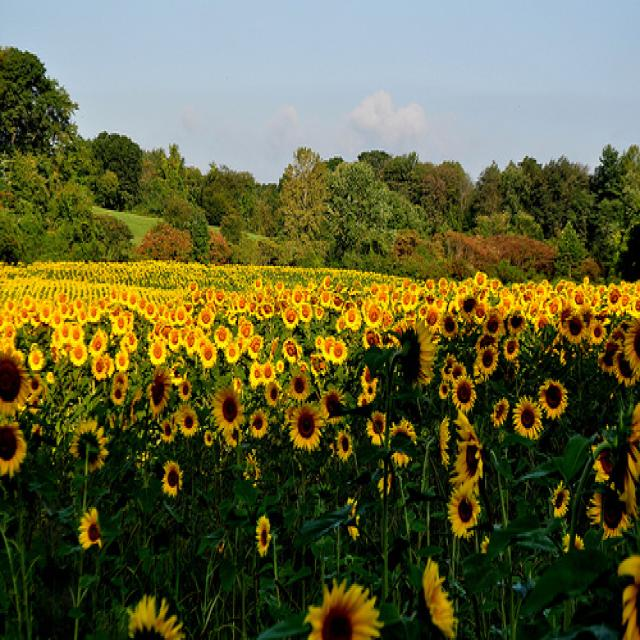sunflower: (419, 555, 458, 640), (311, 595, 379, 640), (451, 409, 484, 485), (126, 600, 187, 640), (591, 480, 631, 538), (0, 343, 33, 412), (446, 485, 487, 539), (68, 420, 108, 471), (622, 555, 640, 640), (0, 421, 27, 477), (291, 400, 321, 448), (542, 371, 570, 420), (146, 364, 170, 418), (214, 390, 244, 429), (514, 398, 540, 442), (622, 323, 640, 384), (78, 510, 104, 550), (319, 389, 346, 425), (367, 408, 391, 448), (450, 377, 477, 410), (281, 334, 304, 369), (255, 516, 273, 559), (564, 312, 584, 343), (289, 373, 310, 402), (164, 462, 183, 494), (486, 314, 506, 341), (442, 308, 459, 339), (149, 341, 170, 366), (457, 294, 477, 320), (478, 348, 498, 373), (363, 302, 383, 327), (360, 366, 379, 392), (338, 430, 354, 460), (262, 384, 282, 408), (249, 410, 265, 440), (506, 312, 527, 334), (332, 337, 348, 364), (214, 325, 229, 353), (109, 386, 128, 408), (180, 414, 199, 436), (200, 344, 217, 368), (247, 338, 263, 361), (70, 347, 88, 367), (280, 308, 300, 325), (115, 347, 129, 371), (198, 309, 214, 330), (237, 322, 253, 342), (30, 350, 44, 372), (38, 305, 52, 326), (346, 308, 358, 324), (631, 312, 631, 330)
